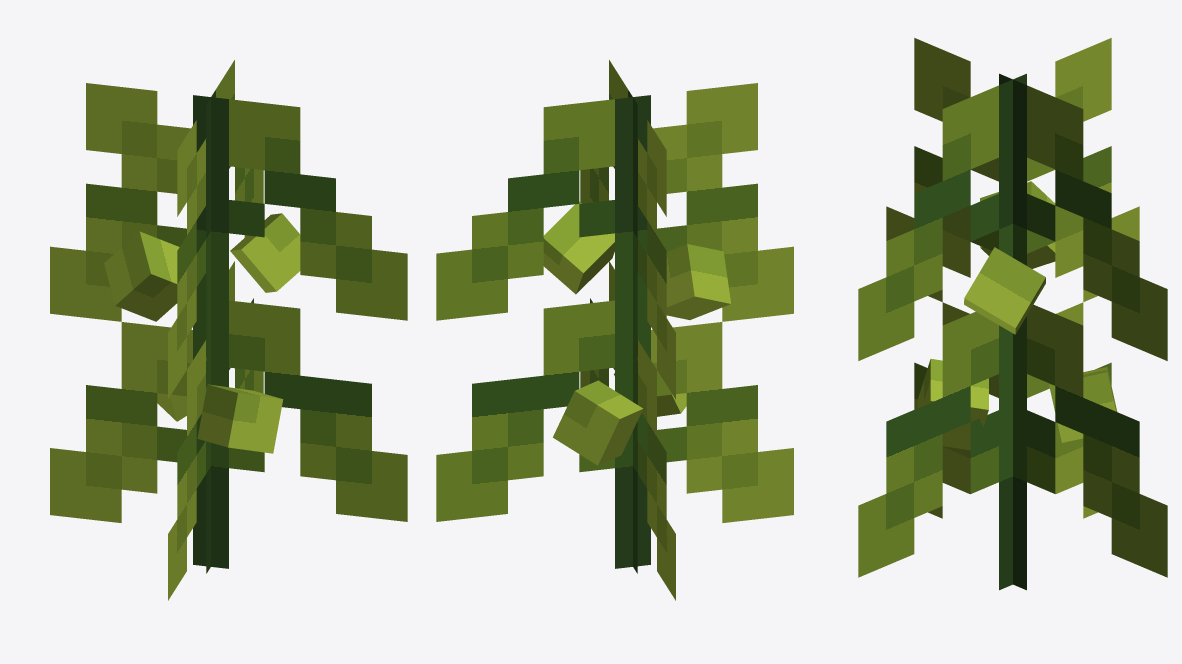
File: blueberry-stage3.gltf
3 renders of one model, left to right at view 1: azimuth 30°, elevation 25°; view 2: azimuth 150°, elevation 25°; view 3: azimuth 270°, elevation 25°, orthographic. The views are drawn at different scales.
Parts seen in each view (by area): view 1: cube (×6); view 2: cube (×6); view 3: cube (×6).
Boxes of the visible parts, left/top/right/bottom form: cube (×6): left=50, top=60, right=407, bottom=600; cube (×6): left=436, top=60, right=793, bottom=600; cube (×6): left=858, top=38, right=1167, bottom=590.
Size of the model in its own units: 0.4861 by 0.875 by 0.4861.
1 material, 1 textured.
